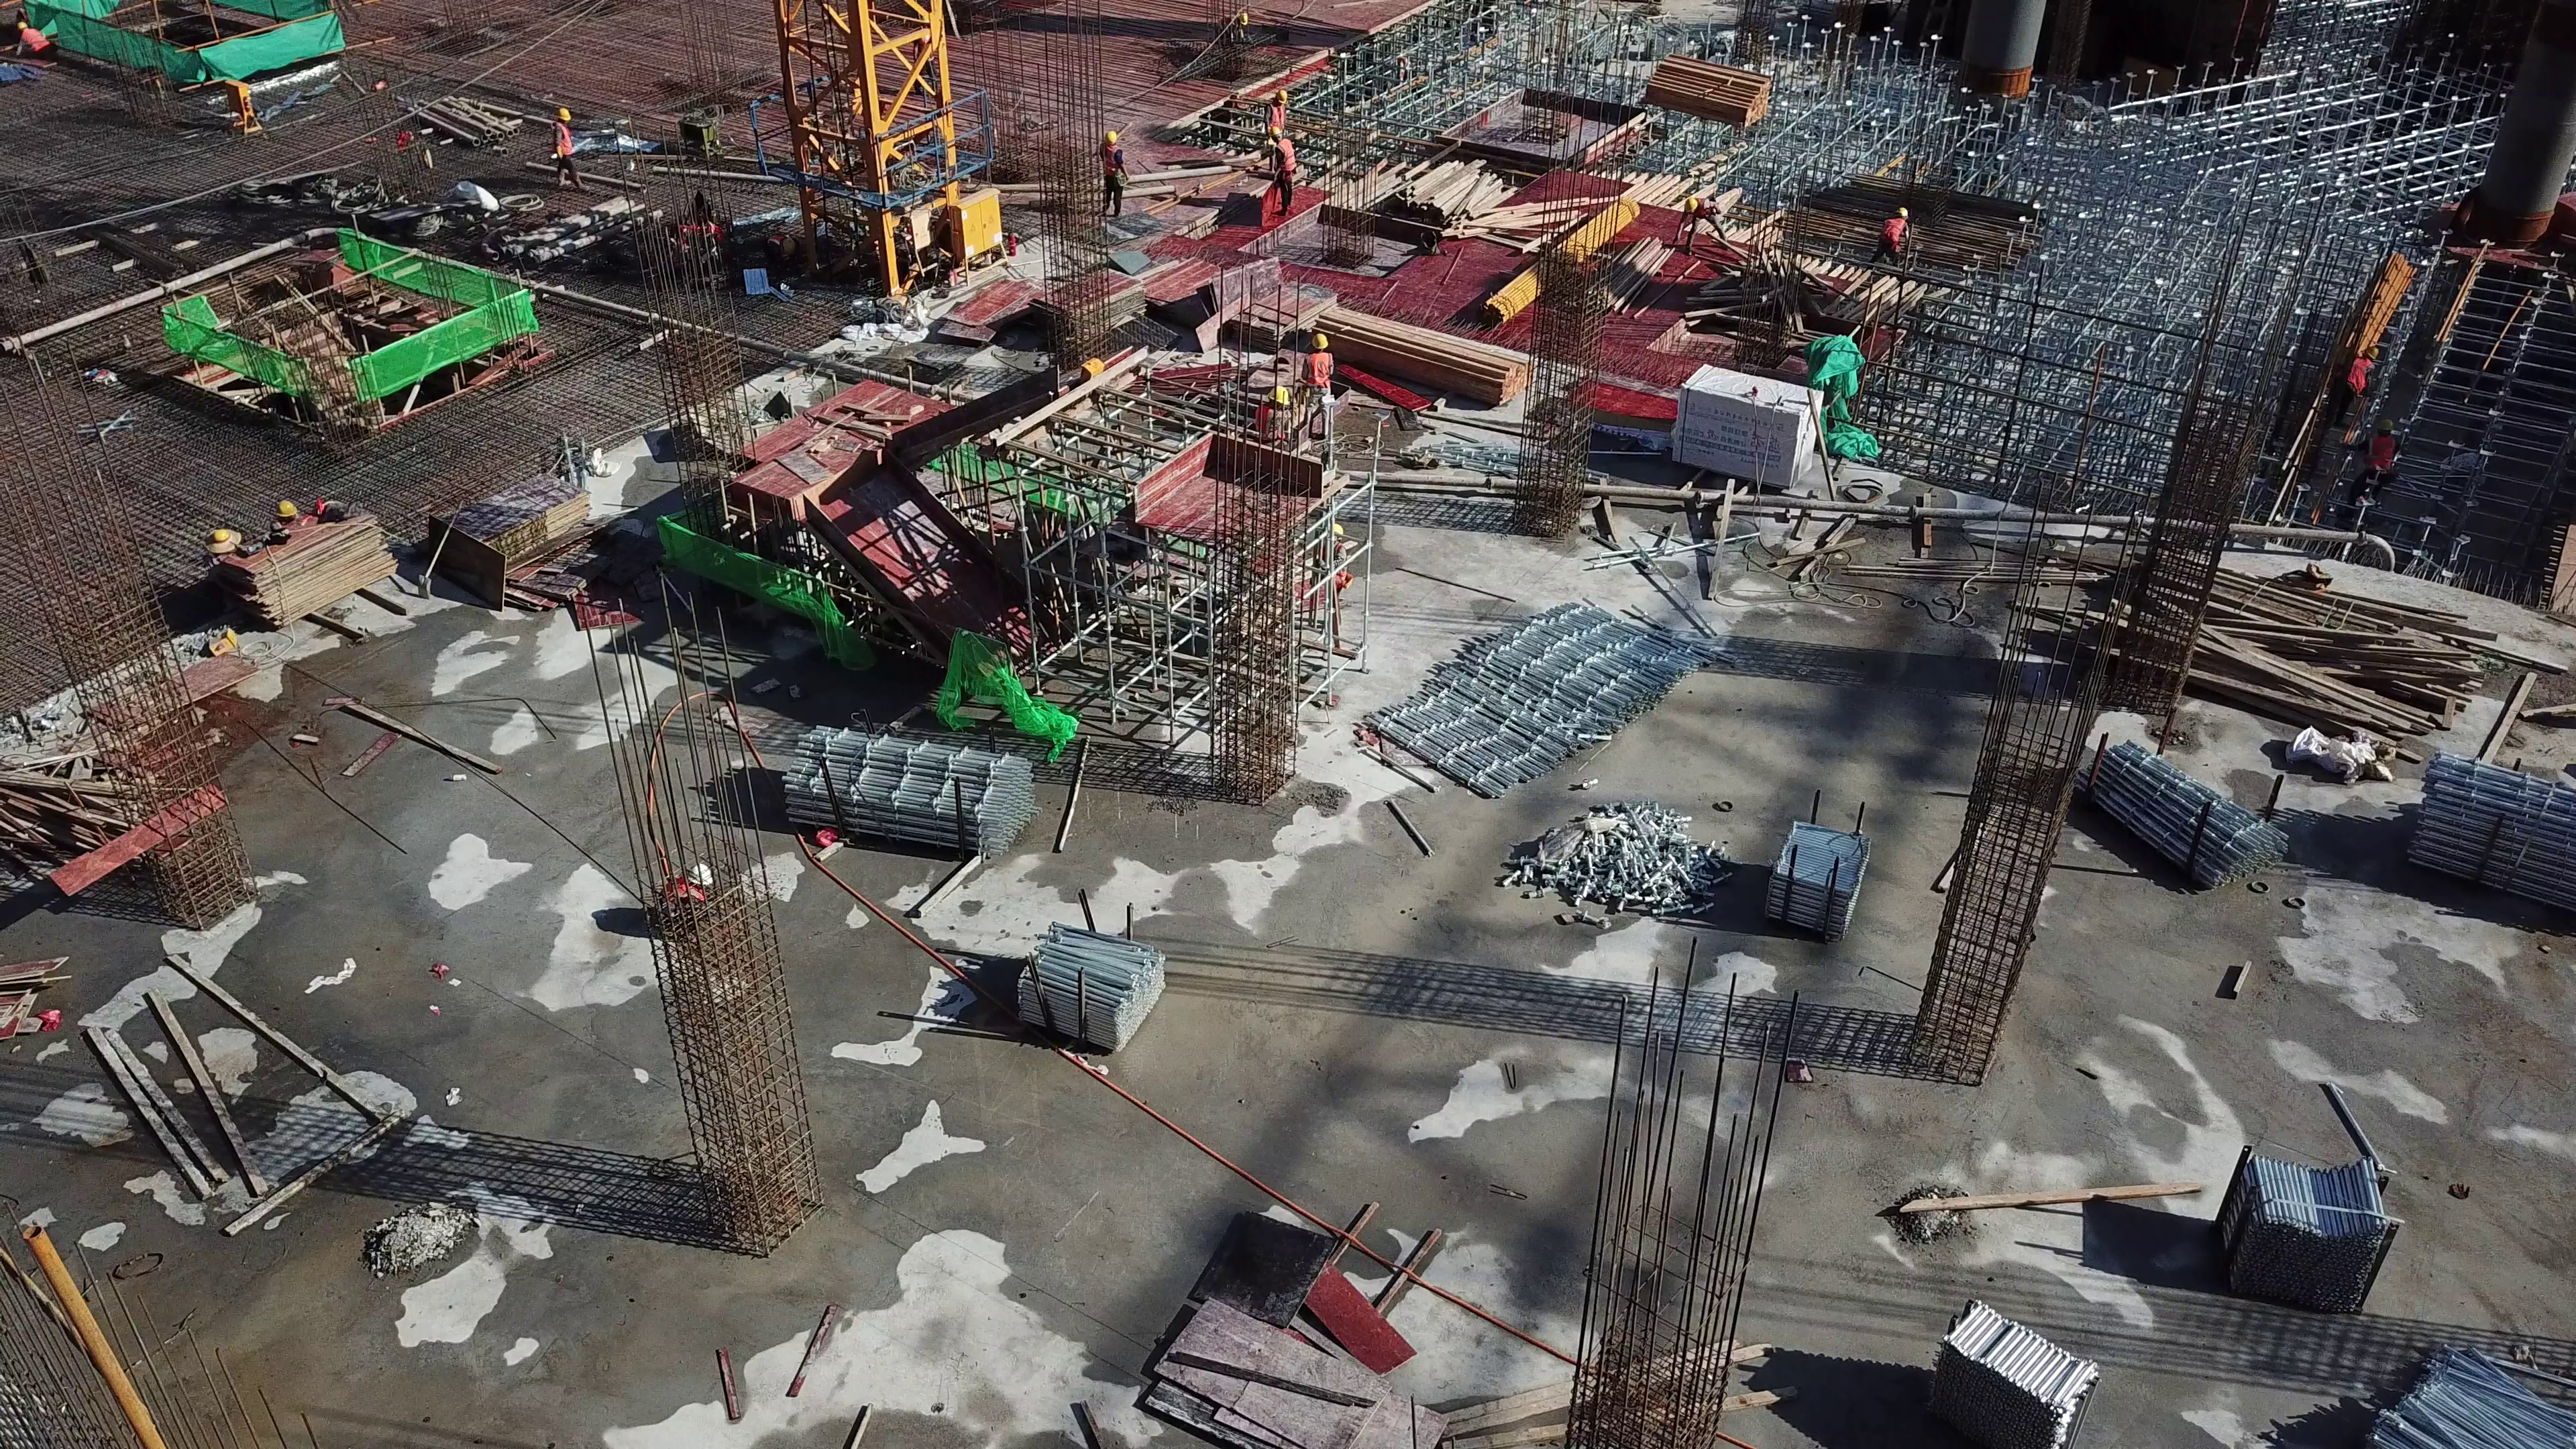board: (429, 470, 589, 613), (213, 511, 390, 631)
person: (1297, 331, 1347, 421), (539, 97, 580, 197), (1266, 132, 1312, 214), (1875, 202, 1916, 292), (1671, 183, 1724, 255), (1093, 129, 1128, 211), (1257, 85, 1295, 132)
scaffold: (1379, 604, 1706, 800), (1534, 803, 1872, 957), (770, 721, 1065, 861), (2082, 716, 2277, 894), (1922, 1299, 2106, 1449), (2286, 1354, 2576, 1448), (2219, 1150, 2394, 1302), (2406, 774, 2575, 911), (1006, 934, 1163, 1039)
wood: (2012, 541, 2479, 756), (1309, 301, 1528, 421), (1336, 164, 1546, 246)
